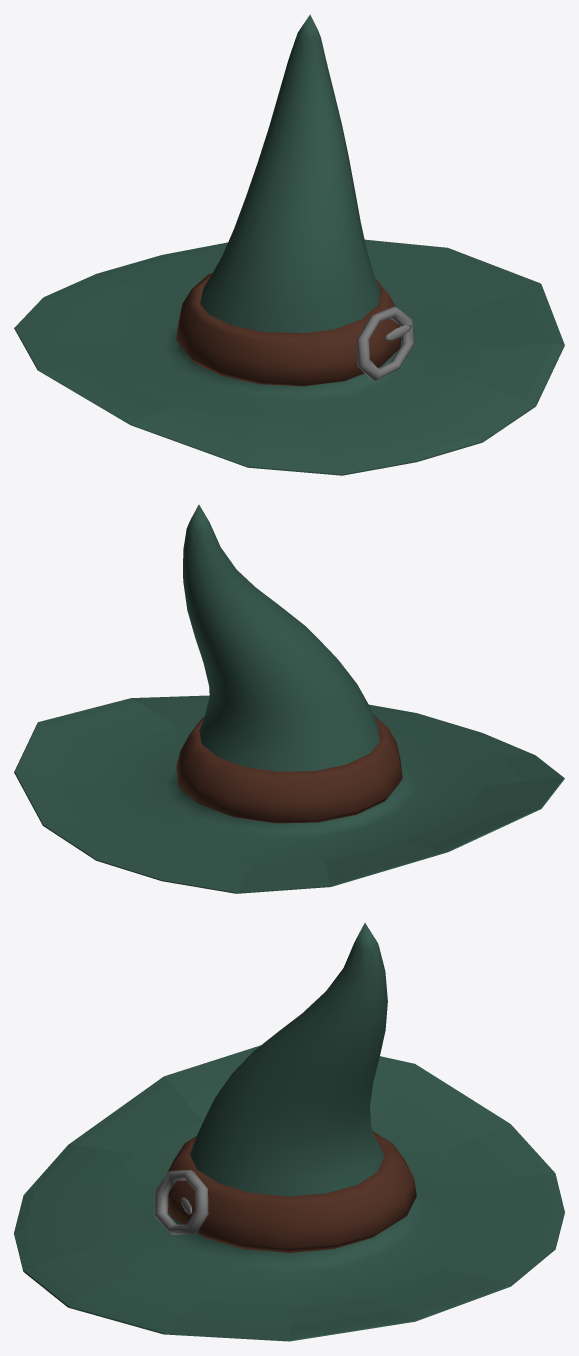
Rendered from wizard-1.glb.
3 renders of one model, top to bottom at view 1: azimuth 30°, elevation 25°; view 2: azimuth 150°, elevation 25°; view 3: azimuth 270°, elevation 25°, orthographic. The views are drawn at different scales.
Visible parts, largest first — view 1: wizardhat; view 2: wizardhat; view 3: wizardhat.
Boxes of the visible parts, x1=… form: wizardhat: x1=14, y1=14, x2=564, y2=475; wizardhat: x1=14, y1=504, x2=564, y2=893; wizardhat: x1=14, y1=923, x2=564, y2=1341.
Size of the model in its own units: 2.09 by 1.26 by 1.84.
